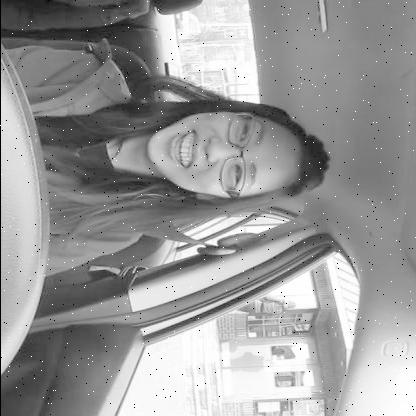seatbelt: (35, 100, 334, 258)
